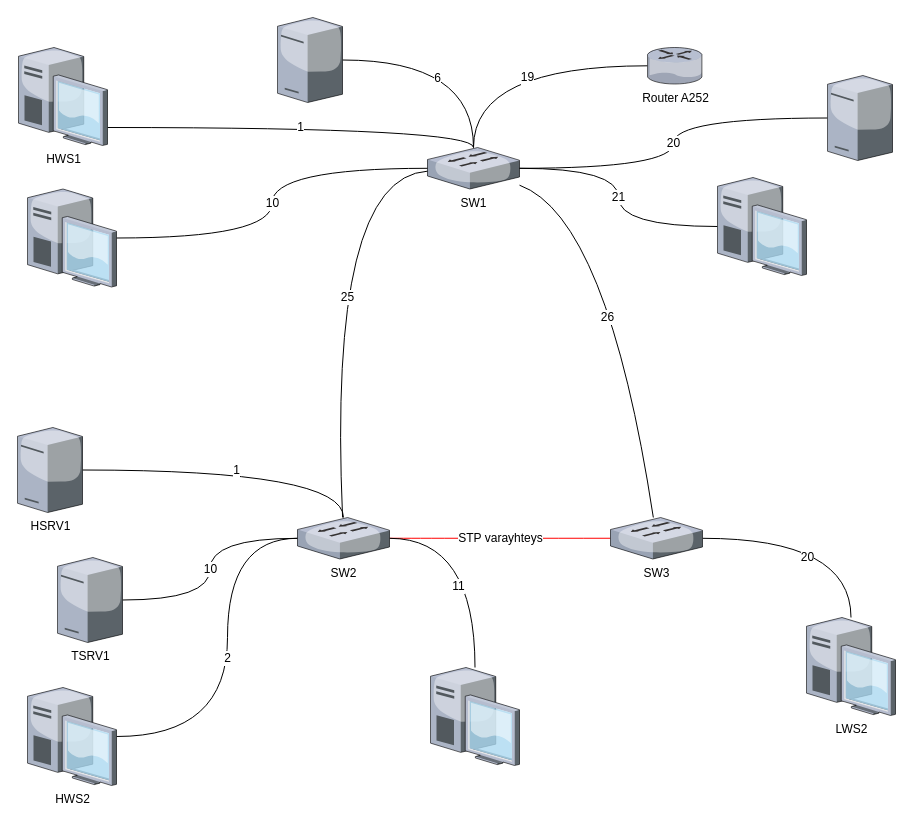
Some shapes in this 913 by 824 pixel diagram are drawn without their labels. Here are the shapes that lost their labels. From the top down, the centre of each, then its label:
the point at 309,59: YSRV
the point at 859,117: LSRV1
the point at 71,237: TWS1
the point at 761,226: LWS1
the point at 474,716: TWS2
